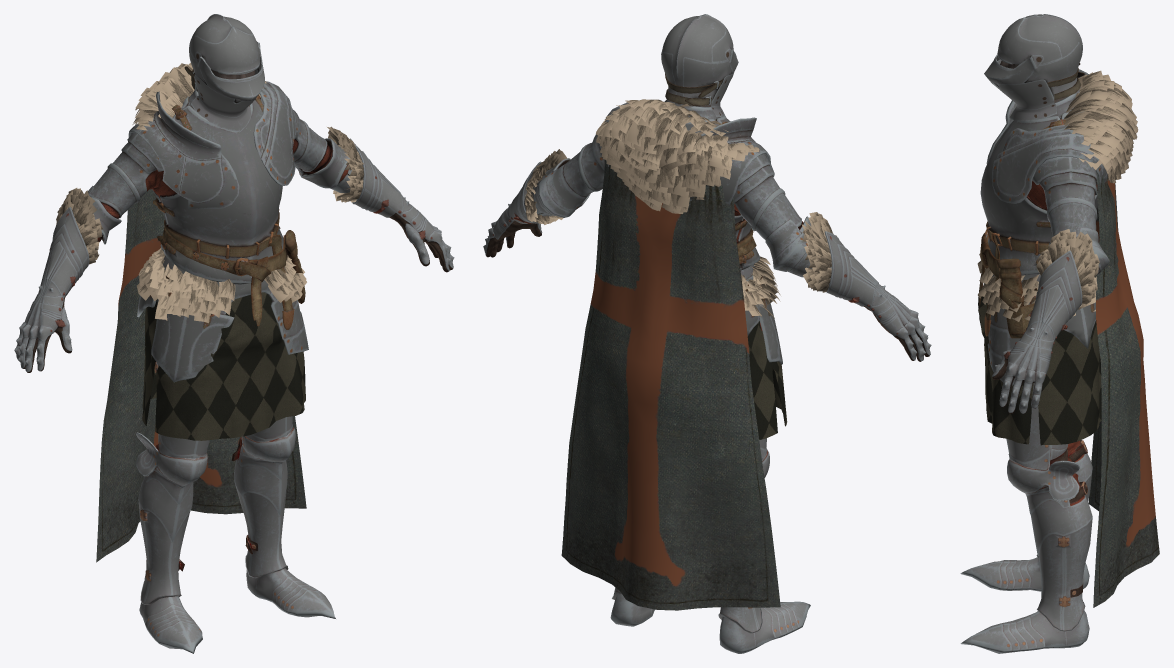
The model's file is Knight.fbx.
3 renders of one model, left to right at view 1: azimuth 30°, elevation 25°; view 2: azimuth 150°, elevation 25°; view 3: azimuth 270°, elevation 25°, orthographic.
Visible parts, largest first — view 1: Torso, Legs, Cape, Skirt, Fur, Gloves, Helmet; view 2: Cape, Fur, Torso, Gloves, Helmet, Legs, Skirt; view 3: Torso, Cape, Legs, Fur, Skirt, Helmet, Gloves.
Part boxes in pixels (box(x1,y1,x2,y2)): Torso: box(88, 81, 357, 382); Legs: box(136, 362, 335, 653); Cape: box(96, 189, 306, 562); Skirt: box(142, 292, 305, 440); Fur: box(56, 63, 363, 323); Gloves: box(14, 138, 454, 372); Helmet: box(184, 14, 265, 131); Cape: box(561, 159, 780, 610); Fur: box(525, 99, 836, 318); Torso: box(524, 100, 831, 364); Gloves: box(483, 161, 931, 361); Helmet: box(661, 14, 738, 116); Legs: box(610, 323, 810, 653); Skirt: box(747, 321, 787, 439); Torso: box(978, 69, 1109, 385); Cape: box(1088, 174, 1159, 607); Legs: box(960, 382, 1092, 653); Fur: box(977, 70, 1138, 321); Skirt: box(978, 296, 1101, 445); Helmet: box(984, 14, 1084, 121); Gloves: box(992, 250, 1082, 413).
Bounding box in the file's own units: 1.4 × 1.85 × 0.5559.
9 materials, 9 textured.
